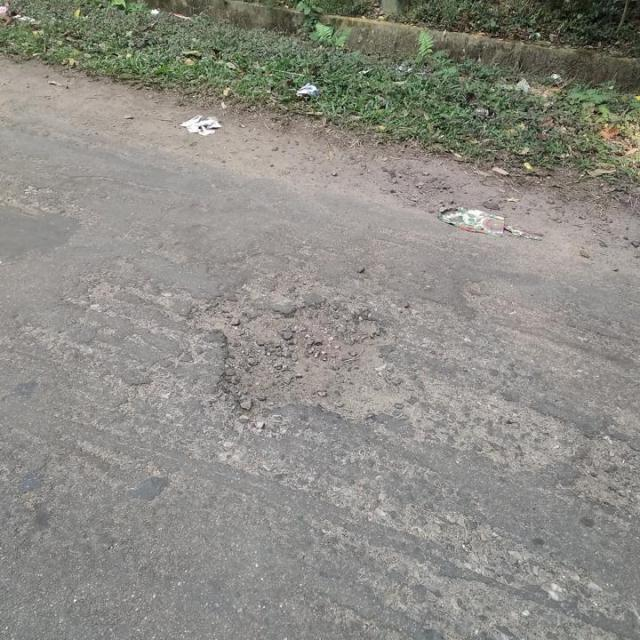Pothole: (185, 295, 404, 422), (197, 299, 410, 426)
